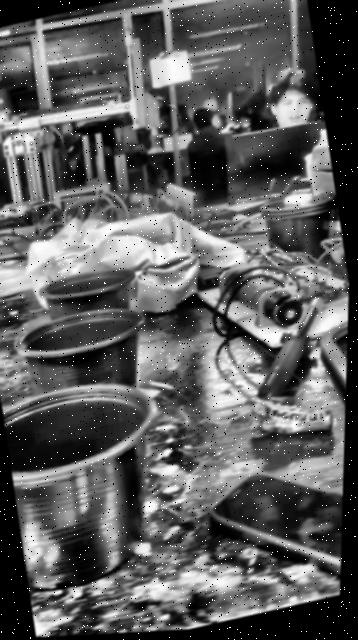pot: (0, 295, 182, 578), (255, 191, 345, 270), (39, 268, 133, 319)
